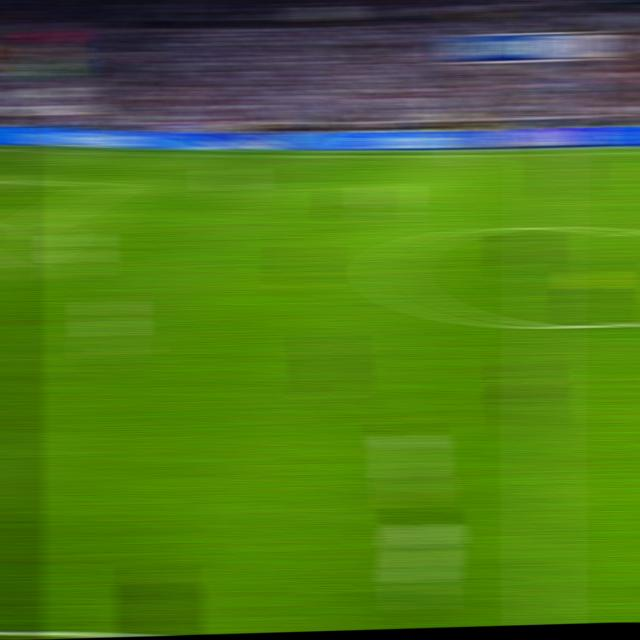bigarea_top_inner: (98, 178, 125, 191)
corner: (0, 142, 25, 153)
halfcircle_bottom: (528, 312, 560, 339)
halfcircle_top: (530, 217, 561, 236)
midline_top_intersection: (532, 148, 560, 161)
top_arc_area_intersection: (24, 213, 53, 229)
